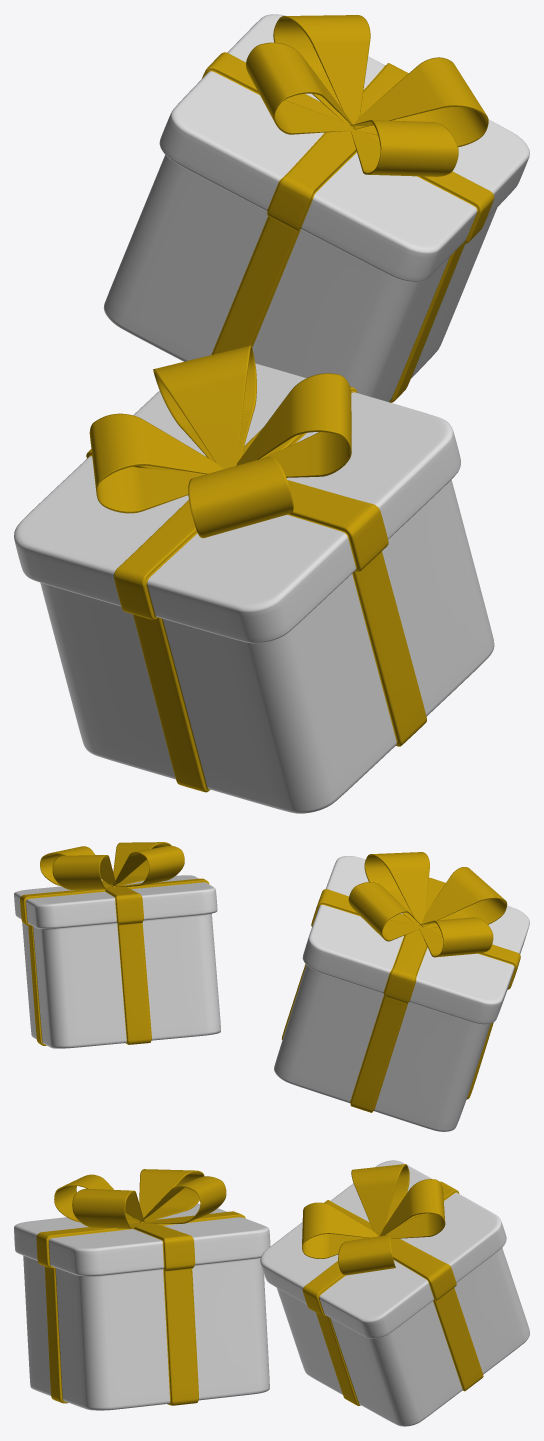
File: gift.gltf
3 renders of one model, top to bottom at view 1: azimuth 30°, elevation 25°; view 2: azimuth 150°, elevation 25°; view 3: azimuth 270°, elevation 25°, orthographic. The views are drawn at different scales.
Parts seen in each view (by area): view 1: Cube.003; view 2: Cube.003; view 3: Cube.003.
Part boxes in pixels (bbox=[...]): Cube.003: bbox=[14, 14, 529, 813]; Cube.003: bbox=[14, 842, 529, 1131]; Cube.003: bbox=[14, 1160, 529, 1426].
Bounding box in the file's own units: 3.11 × 2.27 × 3.46.
